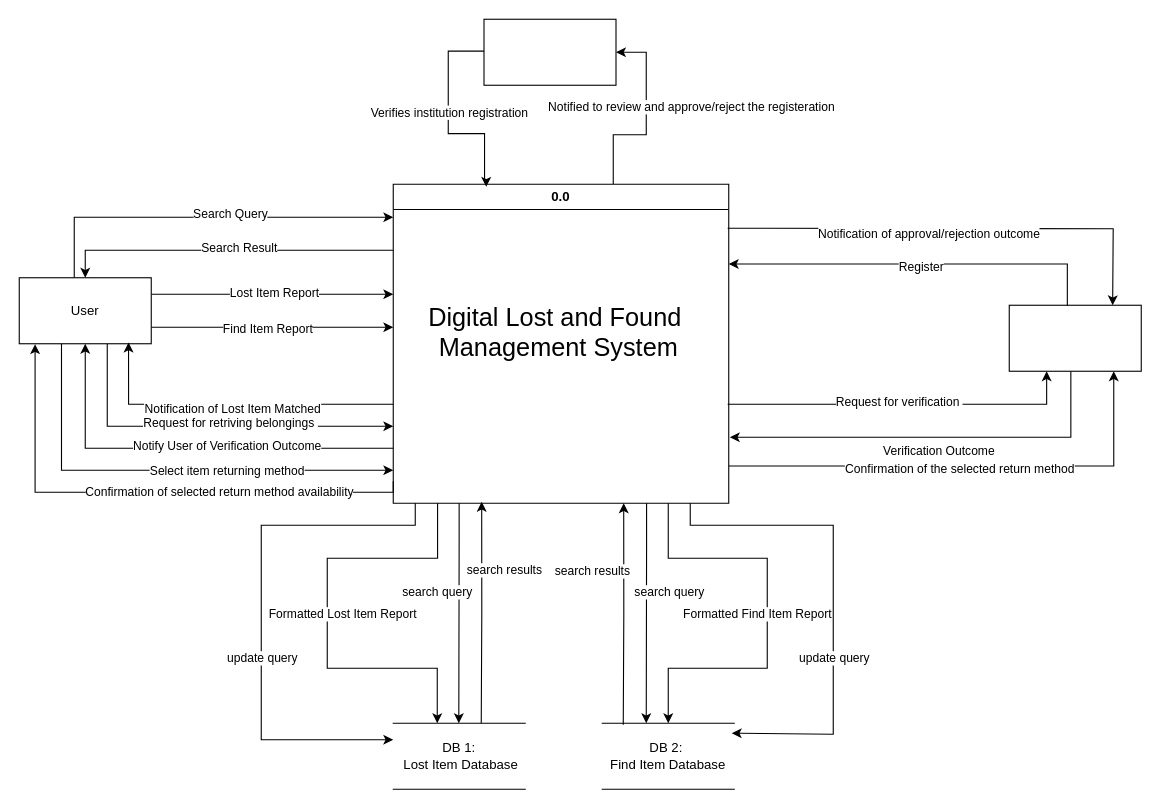
The diagram is 1161 pixels wide and 809 high, and some of its shapes have lost their labels. Each missing label, with the centre of its shape:
"Institution" belongs at point (1074, 337).
"System Administrator" belongs at point (549, 51).
